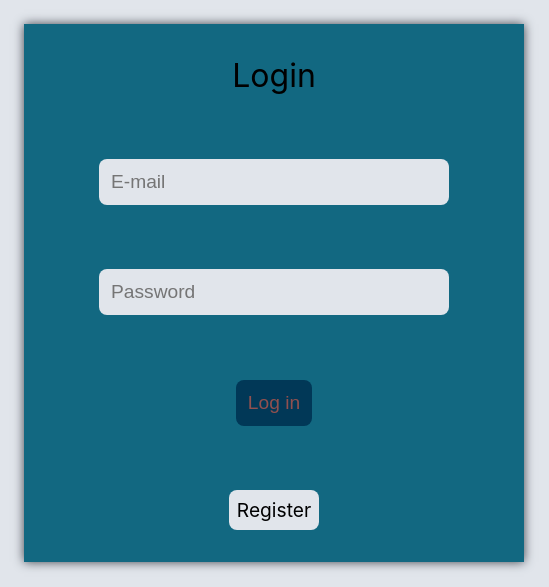
Test case: Login Page › should have the submit button disabled if the information are incorrect
The image size is (549, 587).
Expected: the button is disabled, x1=236 y1=380 x2=312 y2=426
In the field with test id "email-input": [274, 182] box x1=99 y1=159 x2=449 y2=205, type "harry.potter@hogwarts.com"
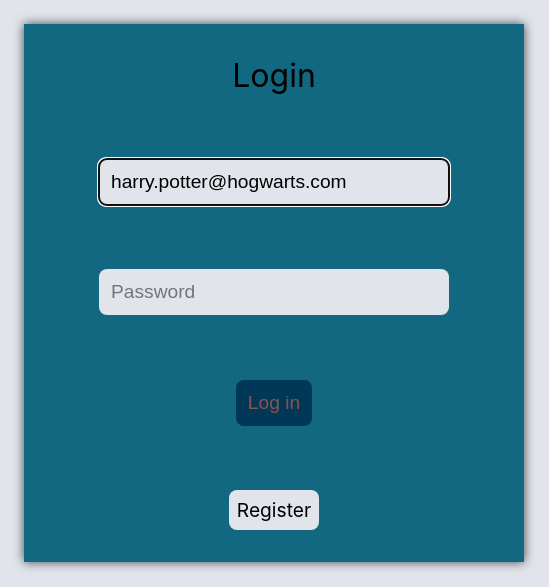
In the password field with test id "pass-input": [274, 292] box x1=99 y1=270 x2=449 y2=316, type "Hedwig01!"
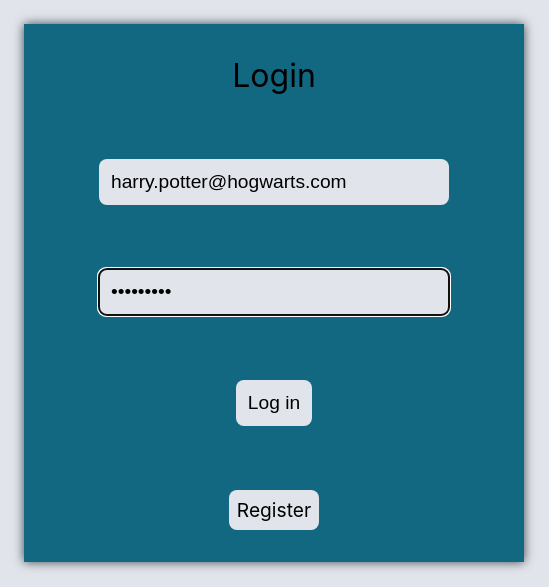
Result: the button is enabled at x1=236 y1=380 x2=312 y2=426
